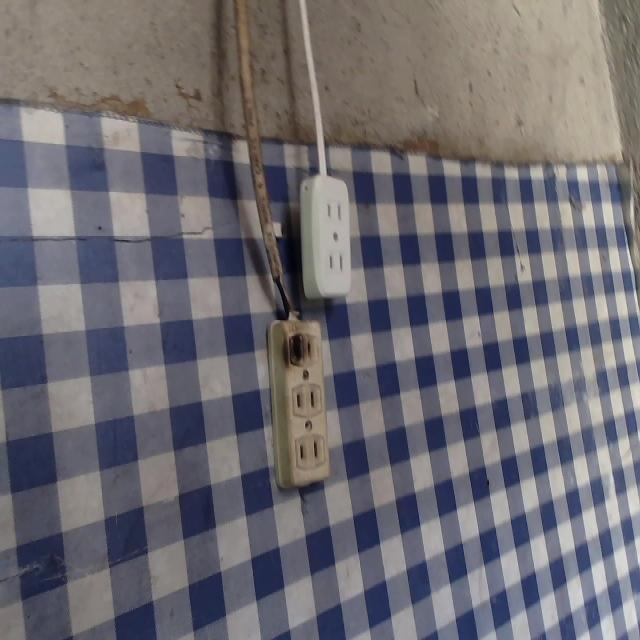-: (279, 323, 310, 376)
